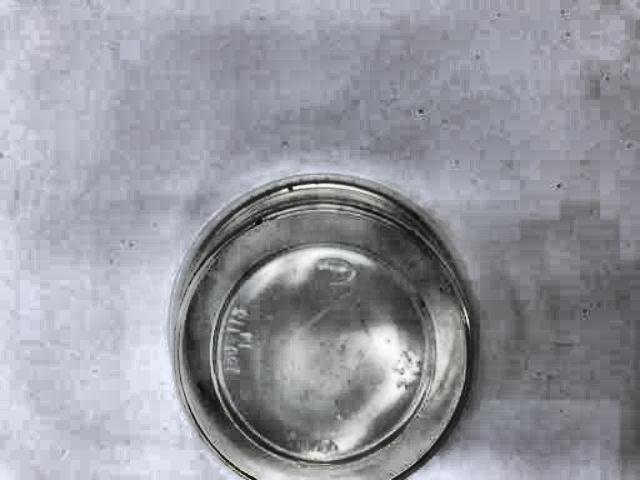Plastic: (168, 177, 483, 477)
